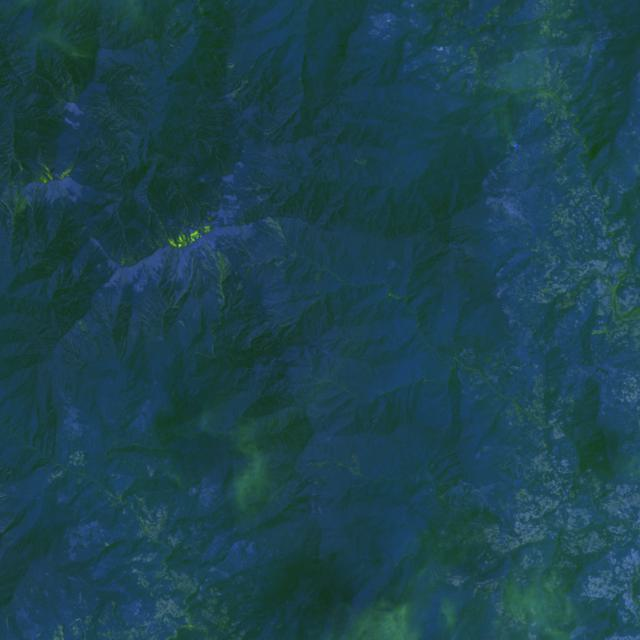landslides: (309, 461, 380, 483), (227, 59, 258, 102), (238, 234, 257, 265), (203, 241, 221, 270), (357, 159, 370, 182), (464, 246, 483, 259), (127, 130, 143, 140), (267, 217, 281, 228), (74, 320, 88, 331), (130, 75, 144, 86), (353, 454, 361, 473), (315, 268, 325, 282), (315, 475, 327, 484), (385, 629, 406, 634)
